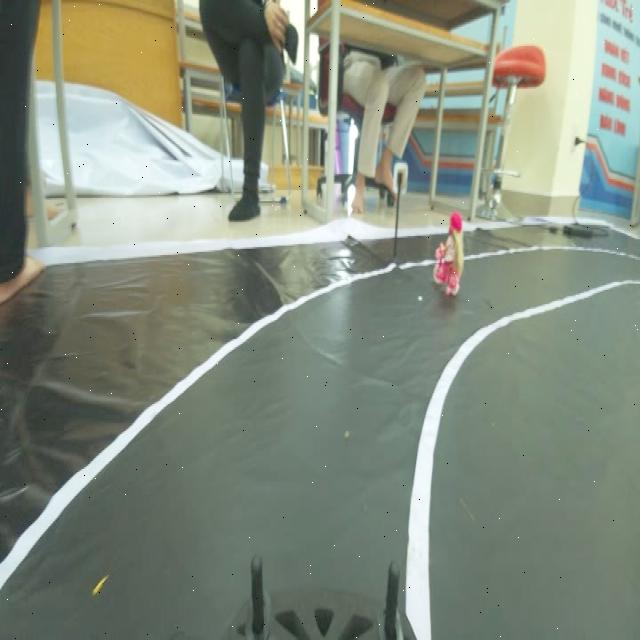pedestrian: (432, 203, 467, 299)
